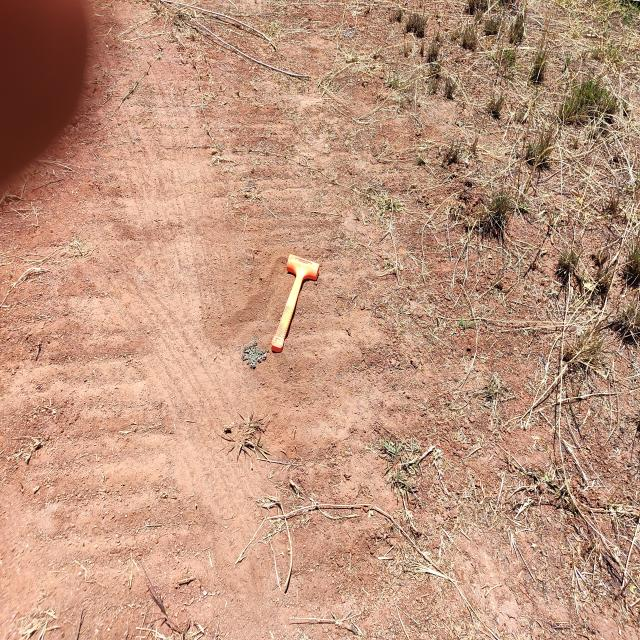Orange_hammer: (270, 253, 320, 353)
